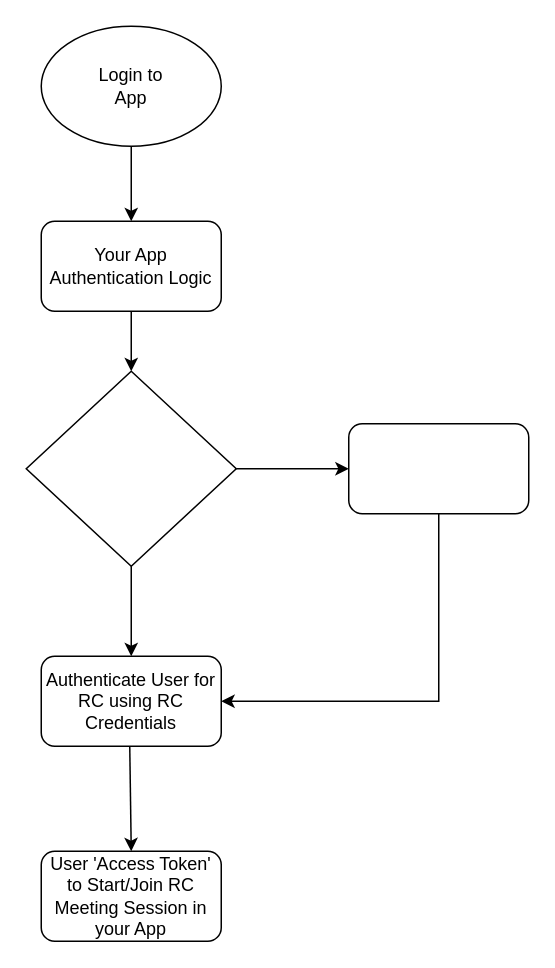
This 555x968 diagram has some shape labels left out. Here are the shapes that lost their labels. From the top down, the centre of each, then its label:
At [130,468]: "Does User have a RC User Account?".
At [438,468]: "Create RC User Account via REST API".
